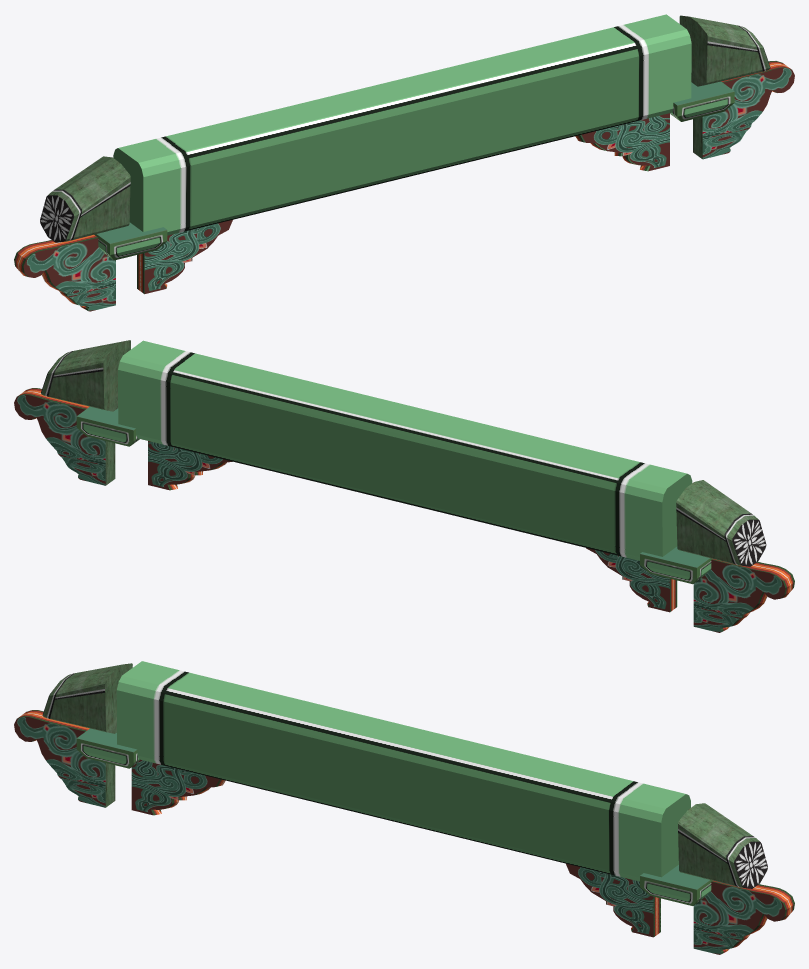
The model's file is SM_R_Beam_25.fbx.
The picture shows the model from 3 angles, top to bottom: view 1: azimuth 30°, elevation 25°; view 2: azimuth 150°, elevation 25°; view 3: azimuth 330°, elevation 25°; orthographic projection.
Parts seen in each view (by area): view 1: SM_R_Beam_25; view 2: SM_R_Beam_25; view 3: SM_R_Beam_25.
Part boxes in pixels (x1,y1,x2,y2): SM_R_Beam_25: (14,14,794,311); SM_R_Beam_25: (14,340,794,632); SM_R_Beam_25: (14,661,794,954).
Bounding box in the file's own units: 411 × 32.84 × 70.93.
5 materials, 5 textured.
